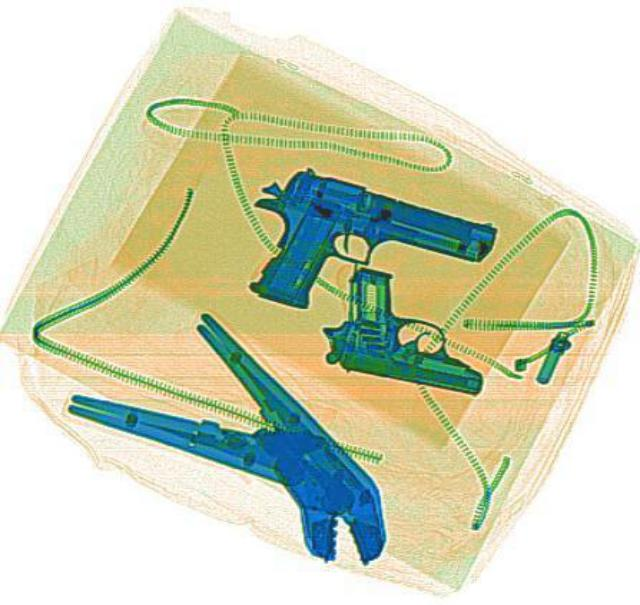Gun: (222, 157, 500, 352), (311, 260, 507, 397)
